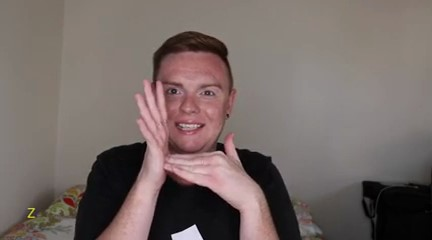Z: (124, 73, 280, 216)
